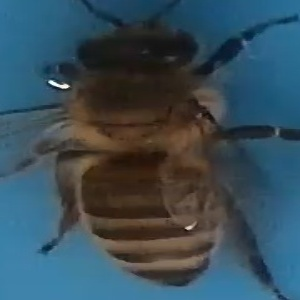bee: (12, 2, 300, 300)
